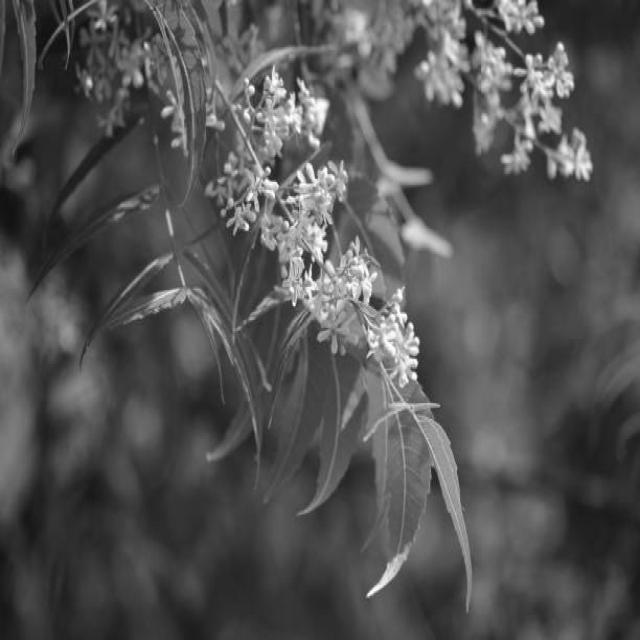Neem-Tree: (0, 0, 592, 607)
